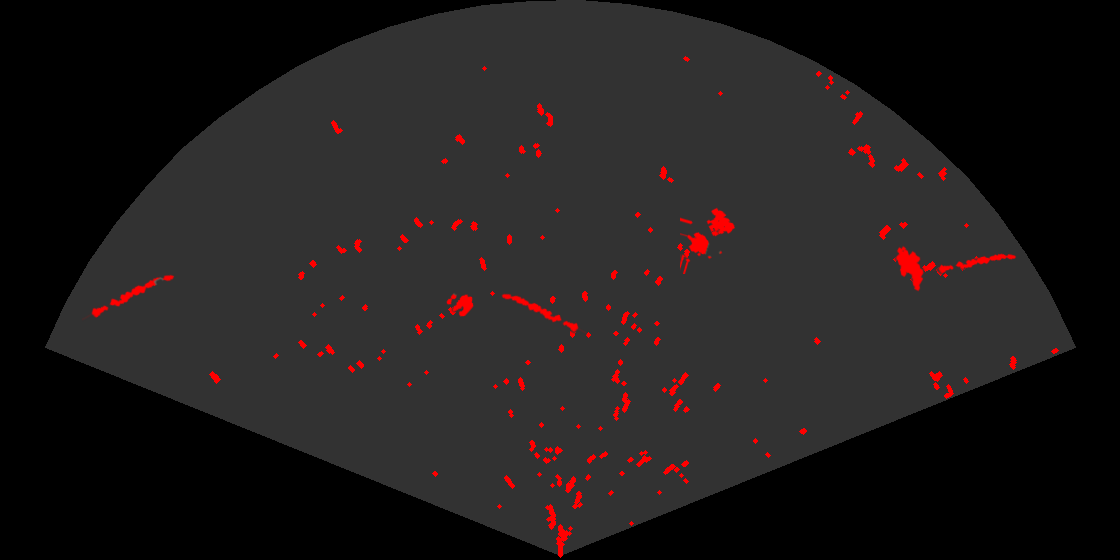AUV: (894, 244, 926, 293)
ball: (445, 292, 475, 318)
cage: (680, 206, 737, 274)
chain: (82, 273, 176, 322), (500, 292, 587, 336), (933, 252, 1017, 275)
